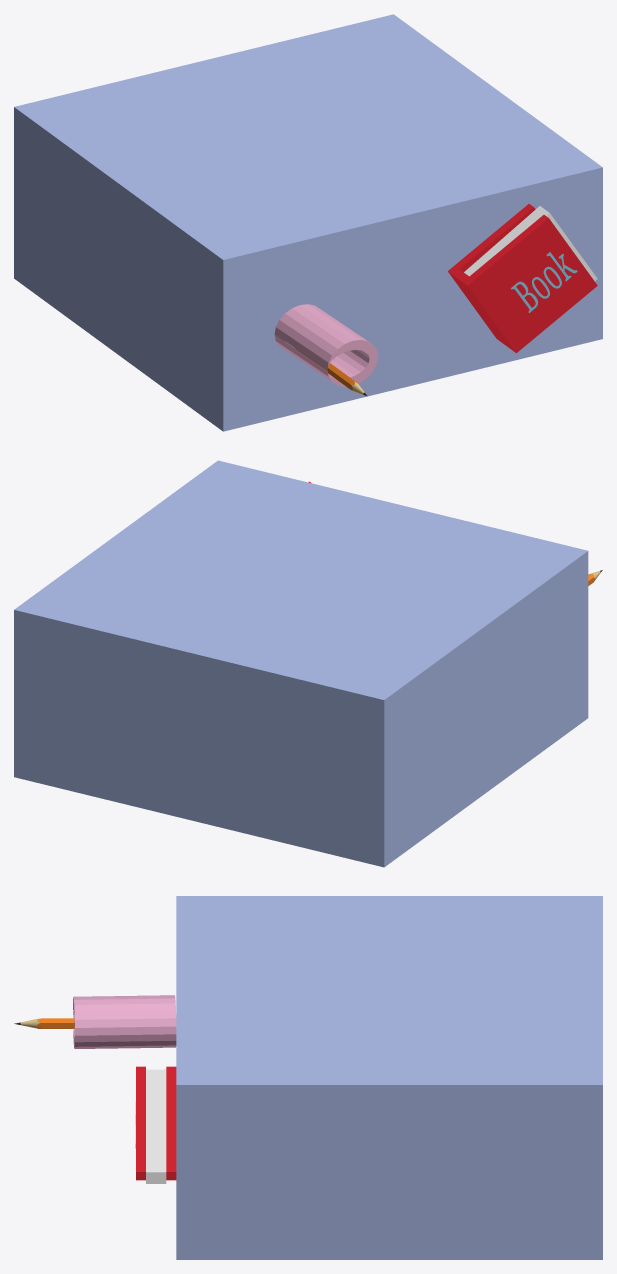
The model's file is tinker.obj.
The picture shows the model from 3 angles, top to bottom: view 1: azimuth 30°, elevation 25°; view 2: azimuth 150°, elevation 25°; view 3: azimuth 270°, elevation 25°; orthographic projection. The views are drawn at different scales.
Visible parts, largest first — view 1: group_0_11452141, group_0_15277357, group_0_15708628, group_0_16448250, group_0_8768998; view 2: group_0_11452141; view 3: group_0_11452141, group_0_15708628, group_0_16448250, group_0_15277357.
Part boxes in pixels (x1,y1,x2,y2): group_0_11452141: (14,14,602,431); group_0_15277357: (448,204,597,352); group_0_15708628: (274,304,377,386); group_0_16448250: (464,206,597,281); group_0_8768998: (511,252,577,312); group_0_11452141: (14,460,588,867); group_0_11452141: (176,896,602,1259); group_0_15708628: (73,995,176,1048); group_0_16448250: (146,1069,166,1183); group_0_15277357: (136,1066,176,1180).
Bounding box in the file's own units: 44 × 19 × 58.
